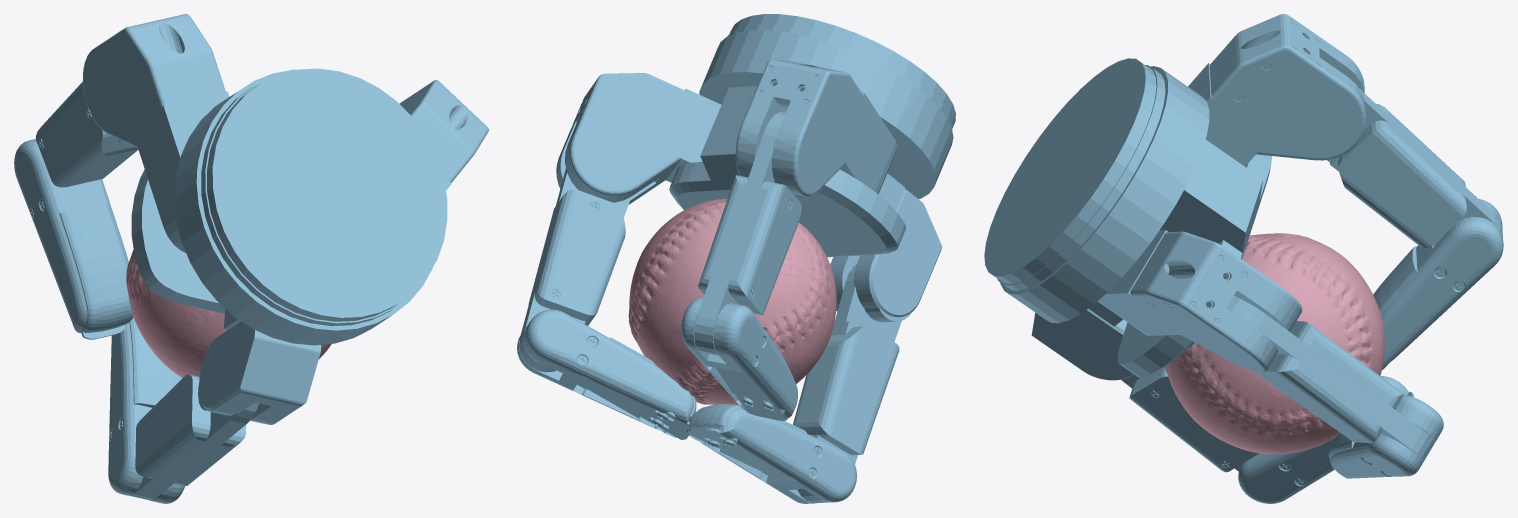
3 views of the same model, side by side, from view 1: azimuth 30°, elevation 25°; view 2: azimuth 150°, elevation 25°; view 3: azimuth 270°, elevation 25° (orthographic). The views are drawn at different scales.
Parts seen in each view (by area): view 1: world; view 2: world; view 3: world.
Boxes of the visible parts, x1,y1,x2,y2 form: world: [14, 14, 488, 503]; world: [517, 14, 955, 503]; world: [984, 14, 1503, 503].
Bounding box in the file's own units: 0.1288 × 0.1711 × 0.1694.
